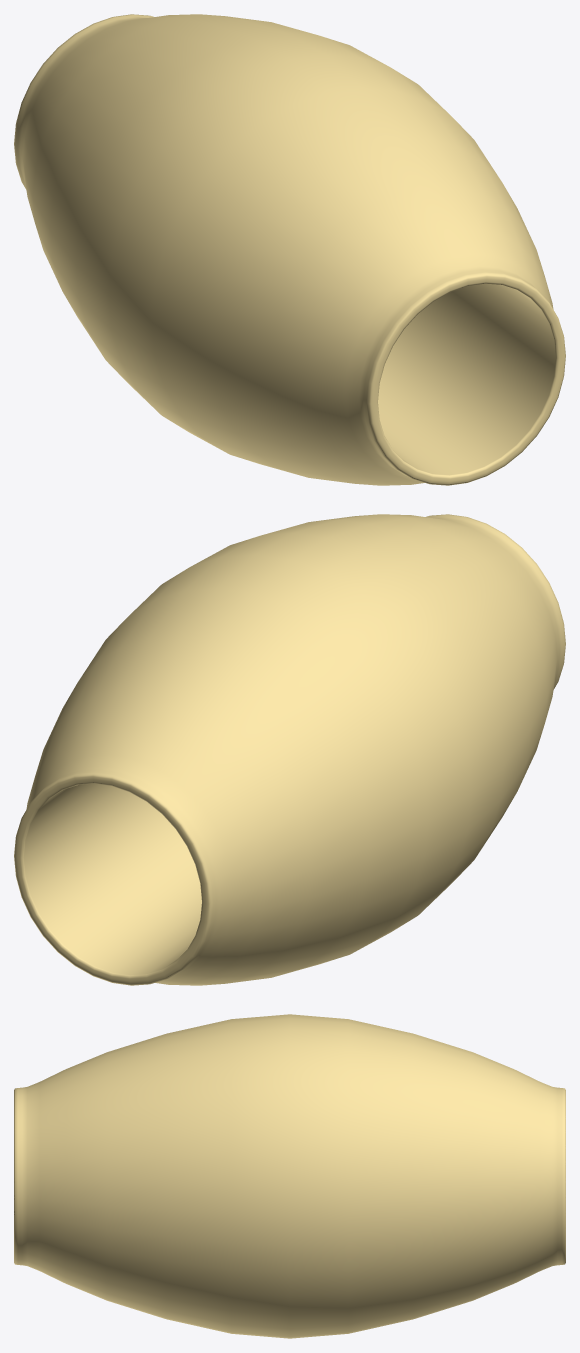
File: Harmony.glb
The picture shows the model from 3 angles, top to bottom: view 1: azimuth 30°, elevation 25°; view 2: azimuth 150°, elevation 25°; view 3: azimuth 270°, elevation 25°; orthographic projection. The views are drawn at different scales.
Parts seen in each view (by area): view 1: Harmony_Bead_Hole; view 2: Harmony_Bead_Hole; view 3: Harmony_Bead_Hole.
Boxes of the visible parts, <box> form: Harmony_Bead_Hole: <box>14,14,565,485</box>; Harmony_Bead_Hole: <box>14,514,565,985</box>; Harmony_Bead_Hole: <box>14,1014,565,1338</box>.
Size of the model in its own units: 0.00294 by 0.00294 by 0.005.
